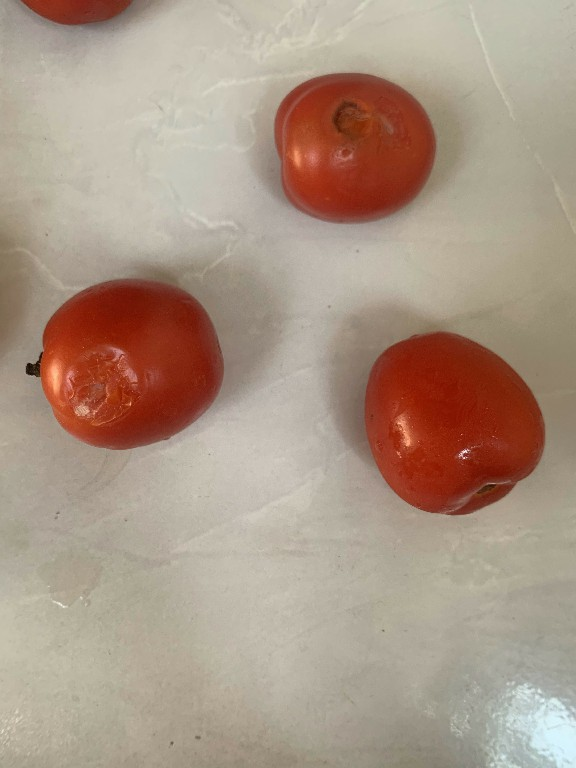NG: (19, 260, 222, 451), (256, 63, 444, 231)
OK: (340, 321, 551, 523)
